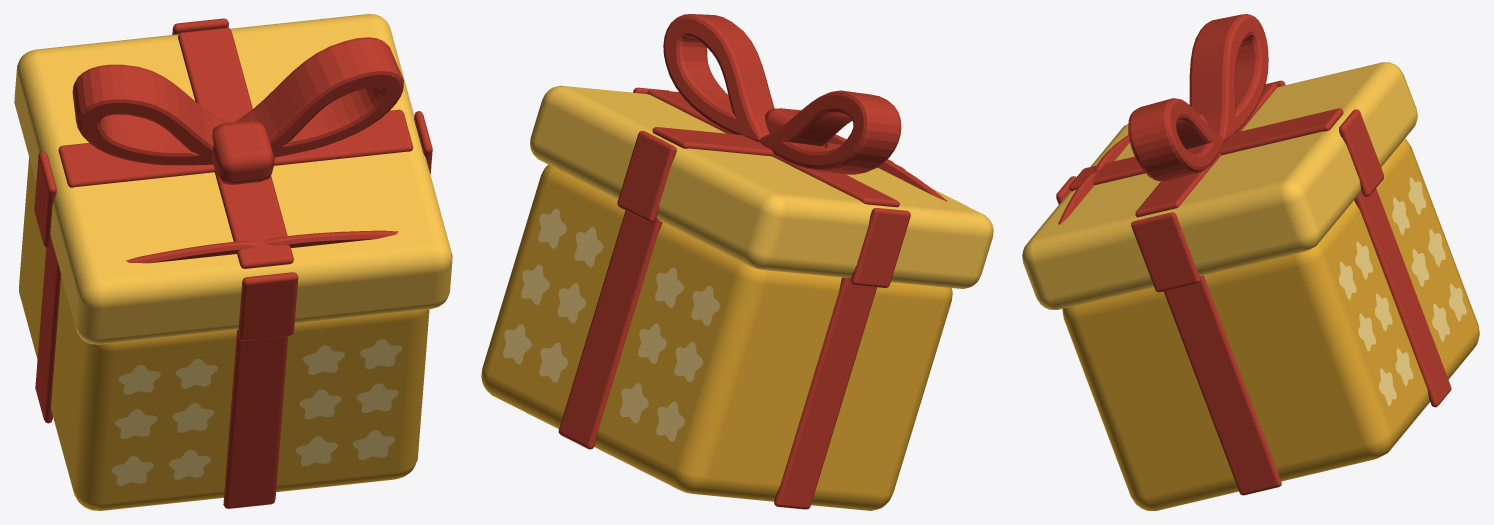
The model's file is giftyellow.glb.
3 views of the same model, side by side, from view 1: azimuth 30°, elevation 25°; view 2: azimuth 150°, elevation 25°; view 3: azimuth 270°, elevation 25° (orthographic). The views are drawn at different scales.
Visible parts, largest first — view 1: giftyellow; view 2: giftyellow; view 3: giftyellow.
Boxes of the visible parts, x1,y1,x2,y2 form: giftyellow: [14, 14, 452, 510]; giftyellow: [481, 14, 993, 510]; giftyellow: [1022, 14, 1479, 510].
Size of the model in its own units: 1.02 by 1.06 by 1.09.
